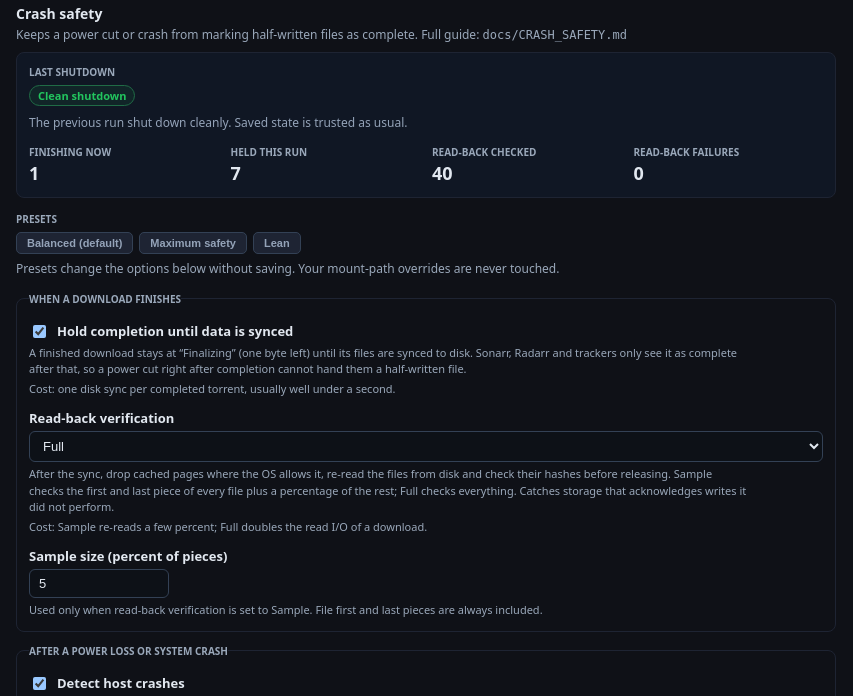
Test case: CrashSafetyPanel › discards edits and resets the runtime override
Select "Off" in the dropdown labelled "Read-back verification" at (426, 447), box [29,431,823,462]
(page scrolled)
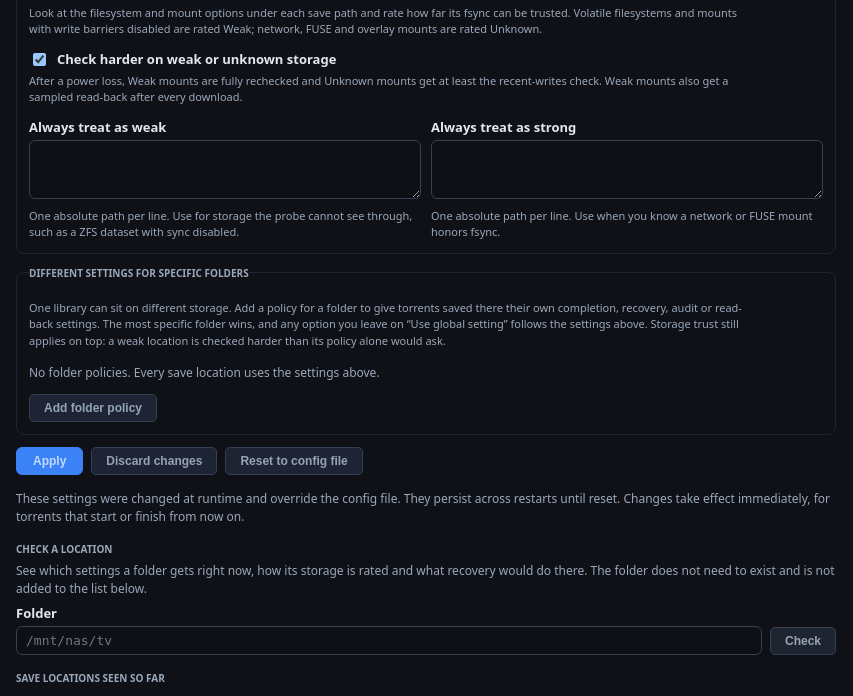
Click the button "Discard changes" at (154, 461), box [91,447,217,475]
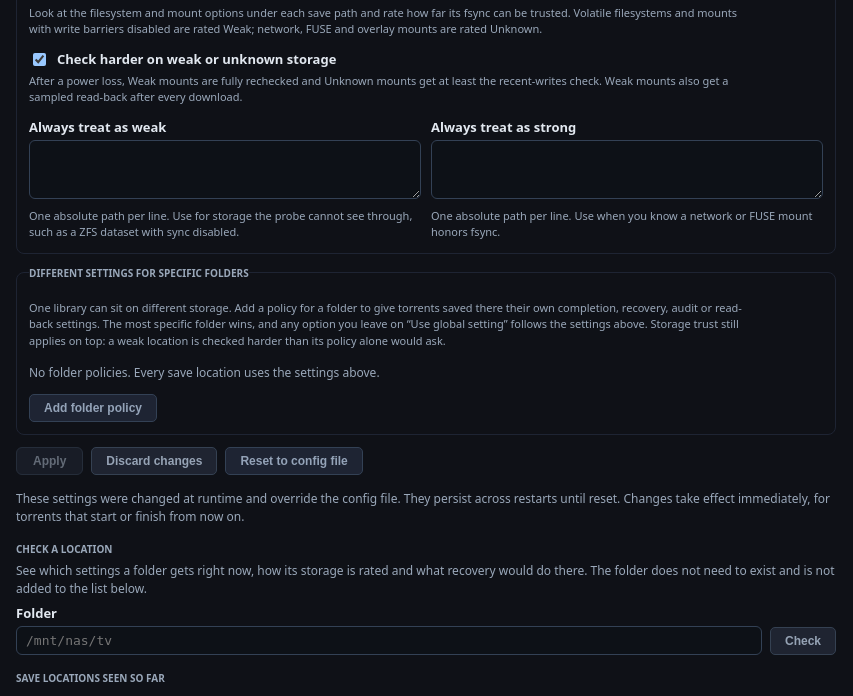
Click the button "Reset to config file" at (294, 461), box [225,447,363,475]
(page scrolled)
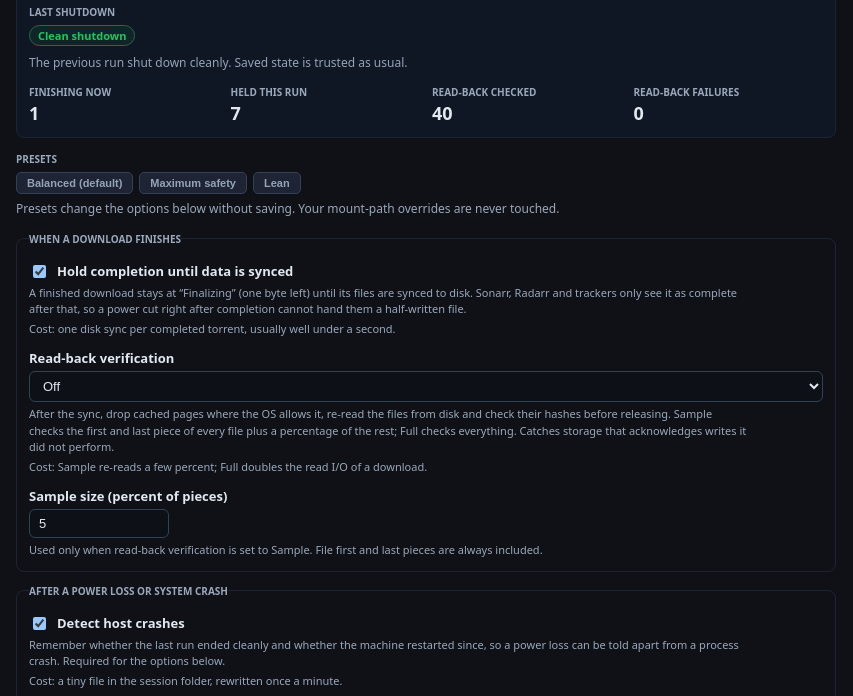
Check: the button "Reset to config file" is gone
